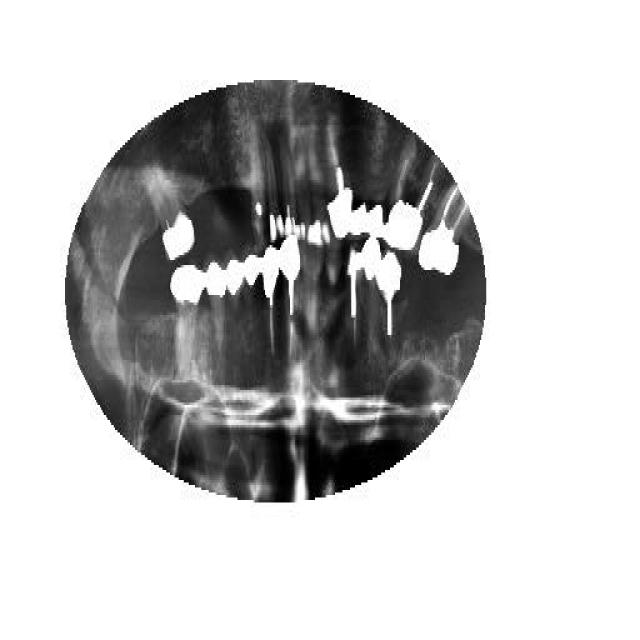Fillings: (148, 165, 194, 263), (170, 265, 205, 375), (206, 262, 228, 372), (244, 255, 265, 340), (362, 237, 382, 325), (308, 130, 322, 245), (228, 258, 244, 330), (350, 175, 369, 235), (295, 150, 307, 240), (366, 180, 384, 235), (285, 140, 295, 238), (270, 140, 276, 245), (278, 145, 284, 243)
Implant: (386, 150, 434, 252), (419, 188, 471, 280), (375, 250, 403, 348), (330, 118, 351, 238), (282, 235, 302, 355), (344, 240, 364, 335), (265, 247, 280, 355)
